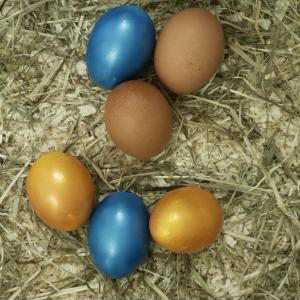egg: (154, 7, 226, 95), (87, 5, 154, 90), (105, 80, 174, 160), (26, 152, 94, 231), (89, 191, 149, 279), (149, 185, 223, 254)
